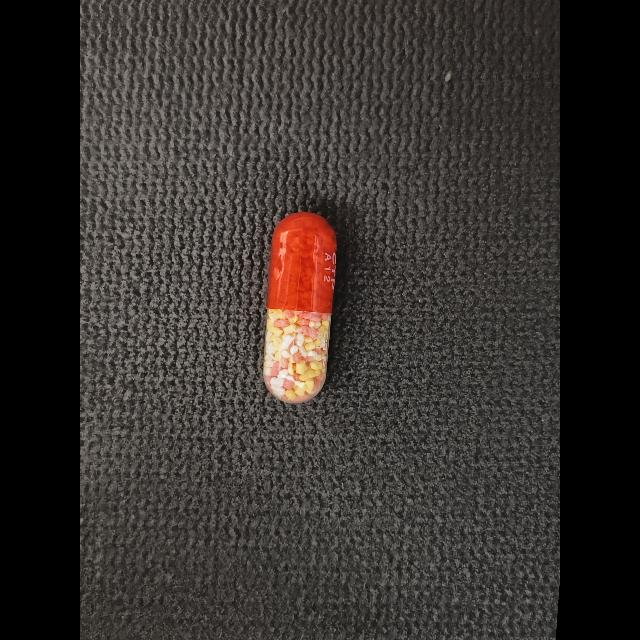Intact Capsule: (263, 212, 337, 403)
